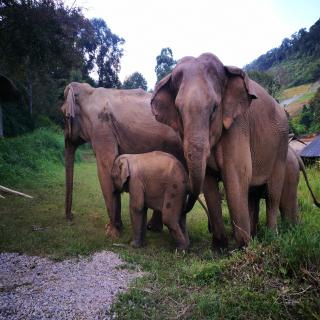Elephant: (149, 51, 293, 259), (60, 72, 200, 242), (109, 152, 193, 258)
